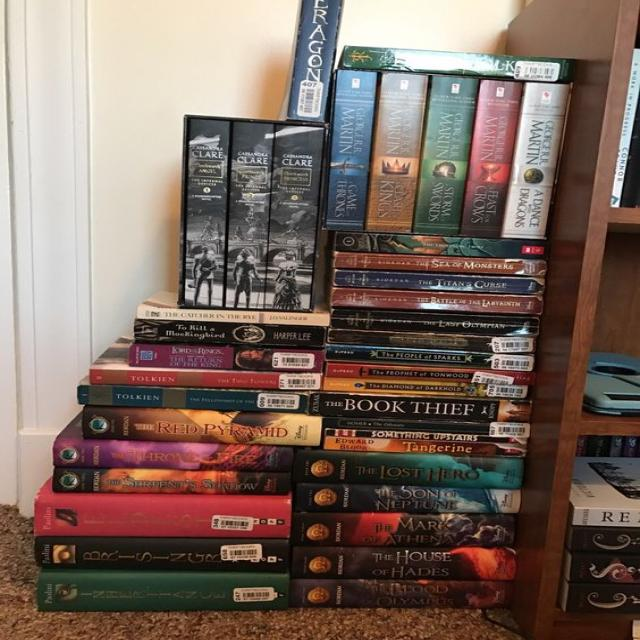book: (265, 125, 324, 309), (502, 82, 569, 239), (412, 77, 478, 235), (35, 497, 291, 537), (365, 73, 428, 233), (460, 80, 522, 238), (36, 573, 288, 611), (294, 449, 523, 490), (83, 408, 321, 446), (226, 122, 274, 308), (35, 538, 288, 572), (185, 119, 230, 308), (341, 47, 579, 81), (326, 70, 376, 230), (291, 512, 515, 546), (293, 546, 516, 580), (295, 483, 521, 513), (53, 444, 293, 472), (309, 392, 532, 422), (288, 579, 511, 609), (78, 385, 308, 413), (289, 1, 341, 121), (53, 469, 290, 495), (330, 308, 541, 336), (336, 232, 547, 259), (333, 288, 543, 314), (325, 345, 533, 371), (135, 319, 325, 347), (328, 329, 536, 354), (334, 252, 546, 276), (334, 270, 545, 294), (90, 369, 323, 390), (129, 347, 323, 372), (327, 364, 536, 385), (324, 437, 527, 458), (323, 418, 529, 438), (324, 378, 527, 398), (138, 308, 331, 325), (323, 429, 527, 445)
